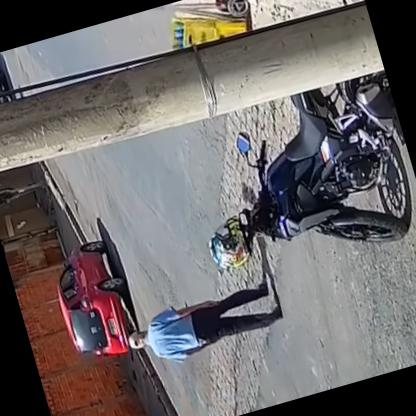Human Body: (116, 271, 292, 378)
